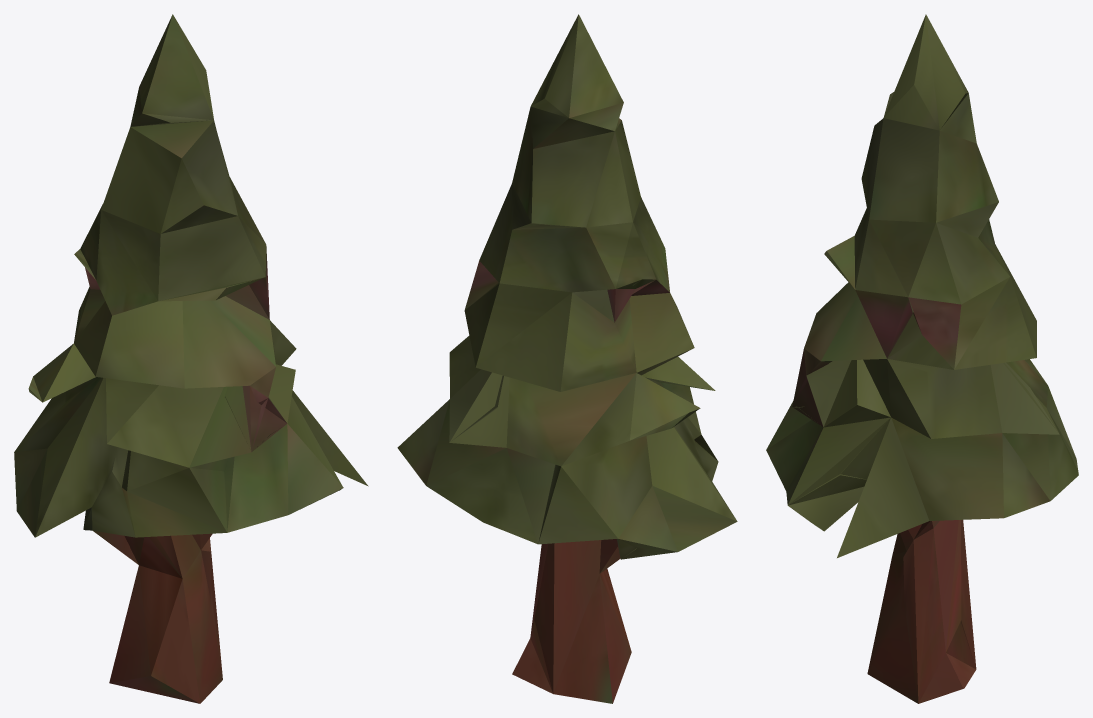
Rendered from bg_forest_pine_1_lod1.glb.
3 views of the same model, side by side, from view 1: azimuth 30°, elevation 25°; view 2: azimuth 150°, elevation 25°; view 3: azimuth 270°, elevation 25° (orthographic).
Parts seen in each view (by area): view 1: sway, body; view 2: sway, body; view 3: sway, body.
Boxes of the visible parts, x1,y1,x2,y2 form: sway: [14, 14, 368, 537]; body: [74, 246, 287, 703]; sway: [397, 14, 737, 559]; body: [465, 260, 669, 703]; sway: [766, 14, 1078, 557]; body: [792, 277, 1009, 703].
Size of the model in its own units: 2.73 by 5.87 by 2.49.
1 material, 1 textured.
